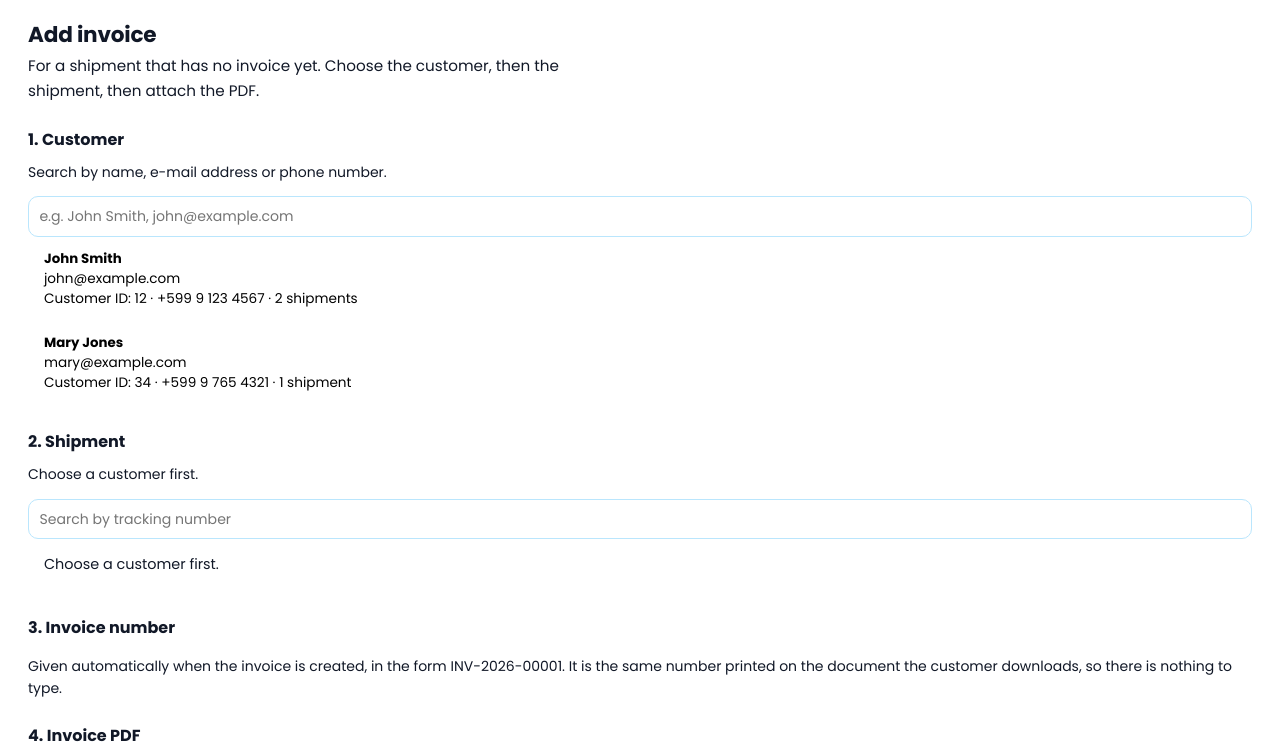
Test case: AddInvoice › will not submit until all three are in hand
The width and height of the screenshot is (1280, 744).
Click the button "John Smith" at (83, 258), box [28,237,1252,321]
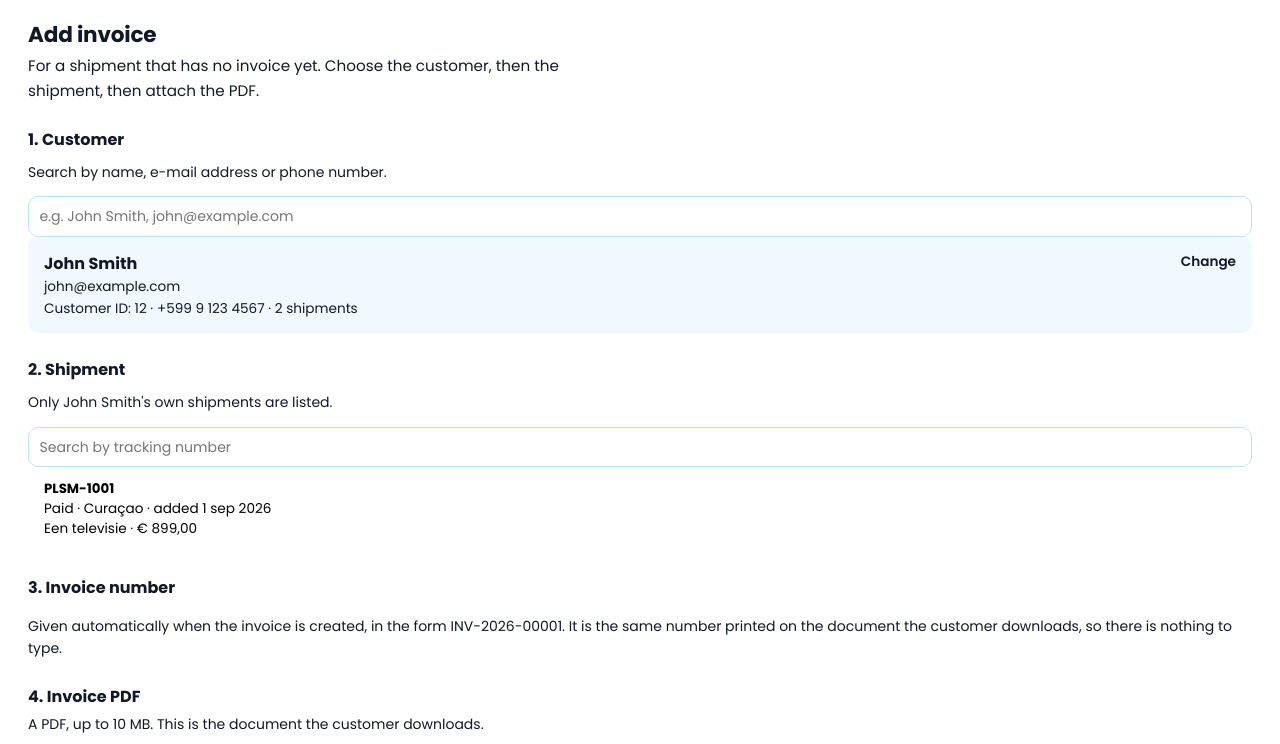
Click the button "PLSM-1001" at (79, 489), box [28,467,1252,551]
(page scrolled)
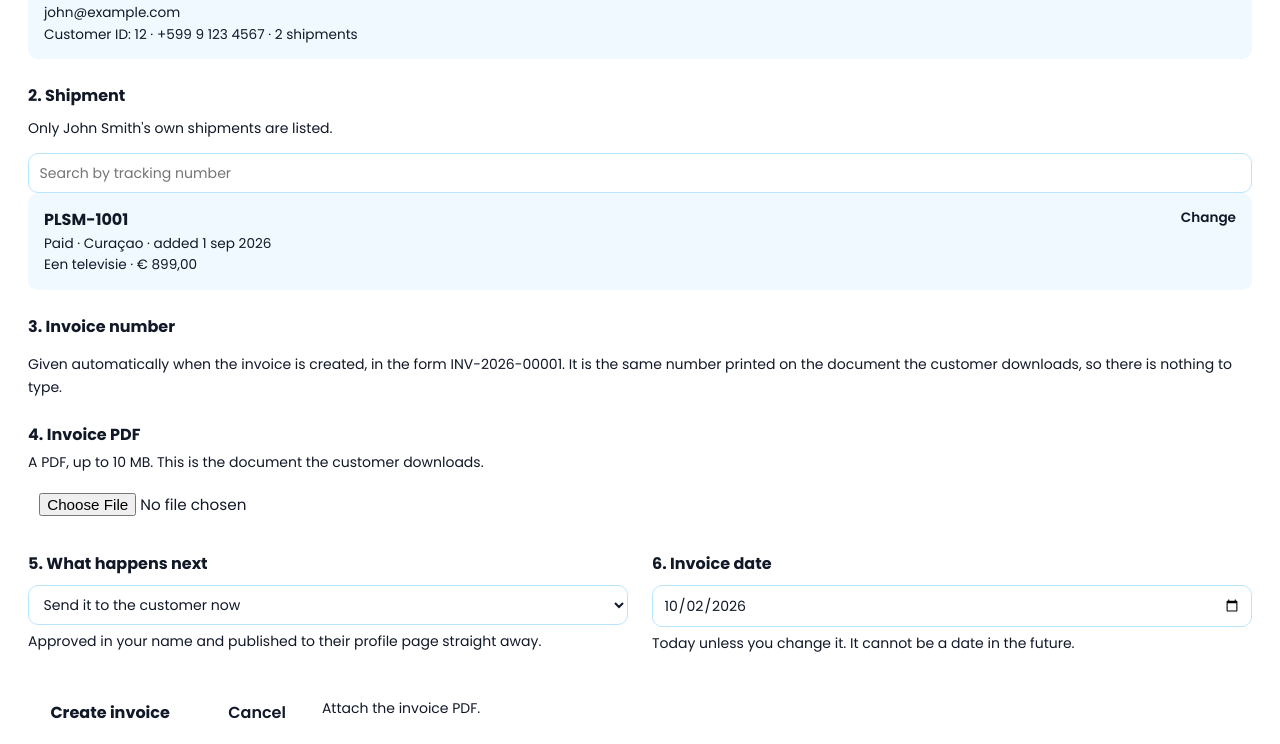
Expected: the button "Create invoice" is disabled, [28,690,192,735]
Result: the text "Attach the invoice PDF." is shown at [322,697,480,720]
